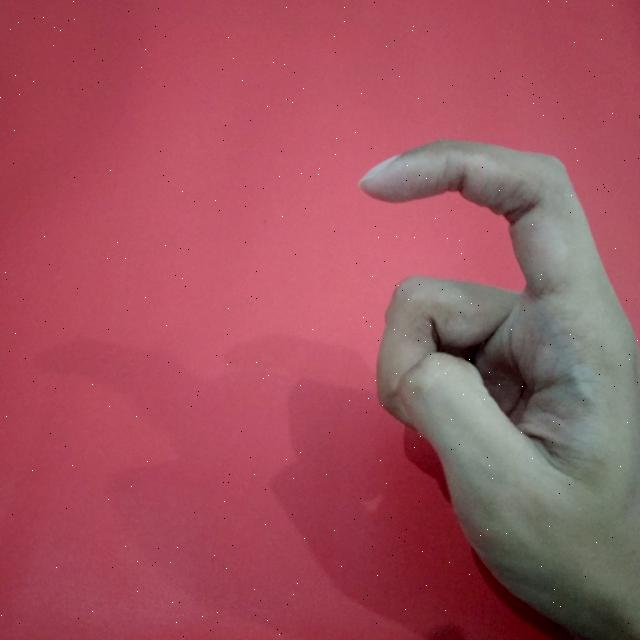X: (349, 123, 640, 640)
